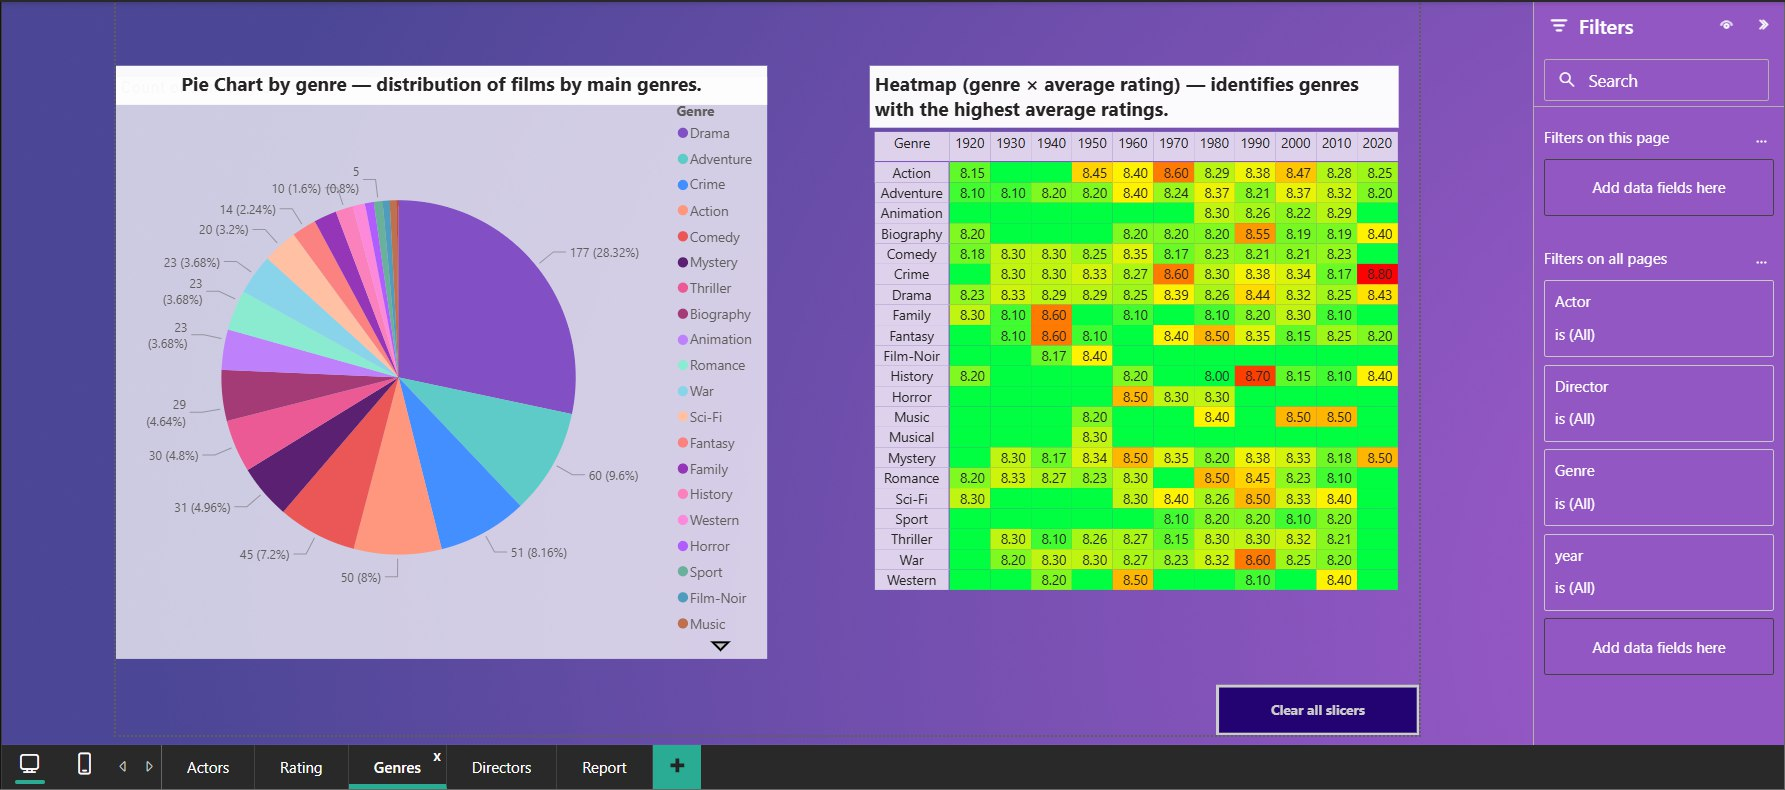

The page's visual inventory and layout, read from the dashboard file:
{"tool":"powerbi","page":{"name":"Genres","canvas":[1280,720],"ordinal":2},"visuals":[{"type":"pieChart","fields":{"Category":["Genre.Column15"],"Y":["CountNonNull(FilmGenres.Genre)"]},"box":[0,74.1,639.1,570.9],"z":0},{"type":"pivotTable","fields":{"Rows":["Genre.Column15"],"Values":["Avg(IMDB Top 250 Movies.rating)"],"Columns":["IMDB Top 250 Movies.Decade"]},"box":[740,123.1,539.8,476],"z":1000},{"type":"actionButton","box":[1079.8,669.7,200,50.3],"z":2000},{"type":"textbox","box":[0,62.3,639.1,38.6],"z":3000},{"type":"textbox","box":[740,62.3,519,60.8],"z":4000}]}

Visuals, with their boxes on the page's 1280x720 design canvas (x1, y1, x2, y2). These are canvas units, not pixel positions in the 1785x790 screenshot, which may show the page scaled, cropped or inside an application window:
pieChart - Genre.Column15 x CountNonNull(FilmGenres.Genre): l=0, t=74, r=639, b=645
pivotTable - Genre.Column15 x Avg(IMDB Top 250 Movies.rating): l=740, t=123, r=1280, b=599
actionButton: l=1080, t=670, r=1280, b=720
textbox: l=0, t=62, r=639, b=101
textbox: l=740, t=62, r=1259, b=123
